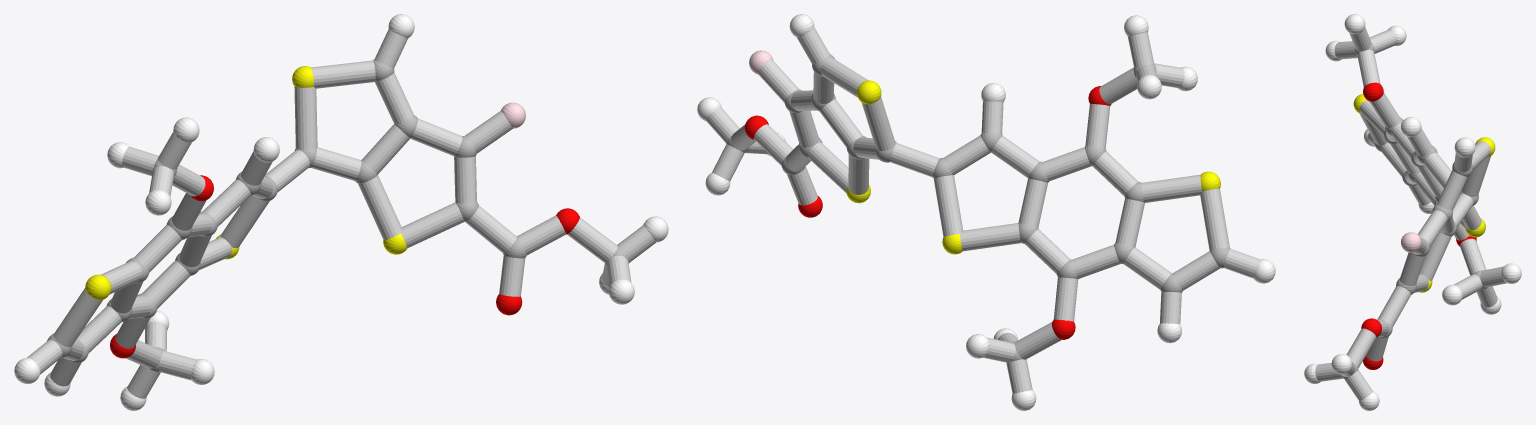
Rendered from Dimethoxy_Benzodithiophene_Phi_30_Theta_300_Methylcarbonyl_3_Fluoro_Thienothiophene.glb.
The picture shows the model from 3 angles, left to right: view 1: azimuth 30°, elevation 25°; view 2: azimuth 150°, elevation 25°; view 3: azimuth 270°, elevation 25°; orthographic projection. The views are drawn at different scales.
Parts seen in each view (by area): view 1: grp15205, grp8689, grp1, grp13395, grp7241; view 2: grp15205, grp8689, grp1, grp7241, grp13395; view 3: grp15205, grp8689, grp1, grp13395, grp7241, grp14843.
Part boxes in pixels (x1=…): grp15205: x1=27, y1=29, x2=655, y2=398; grp8689: x1=14, y1=14, x2=668, y2=410; grp1: x1=47, y1=59, x2=628, y2=371; grp13395: x1=110, y1=175, x2=579, y2=358; grp7241: x1=85, y1=66, x2=407, y2=300; grp15205: x1=706, y1=27, x2=1259, y2=393; grp8689: x1=697, y1=14, x2=1275, y2=410; grp1: x1=726, y1=54, x2=1230, y2=361; grp7241: x1=846, y1=80, x2=1220, y2=254; grp13395: x1=744, y1=86, x2=1111, y2=339; grp15205: x1=1315, y1=27, x2=1506, y2=400; grp8689: x1=1304, y1=14, x2=1521, y2=410; grp1: x1=1340, y1=42, x2=1487, y2=378; grp13395: x1=1361, y1=82, x2=1476, y2=369; grp7241: x1=1353, y1=94, x2=1495, y2=292; grp14843: x1=1401, y1=232, x2=1421, y2=252.
Bounding box in the file's own units: 16.63 × 9.13 × 6.29.
